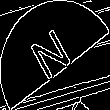N_SE: (29, 23, 81, 87)
